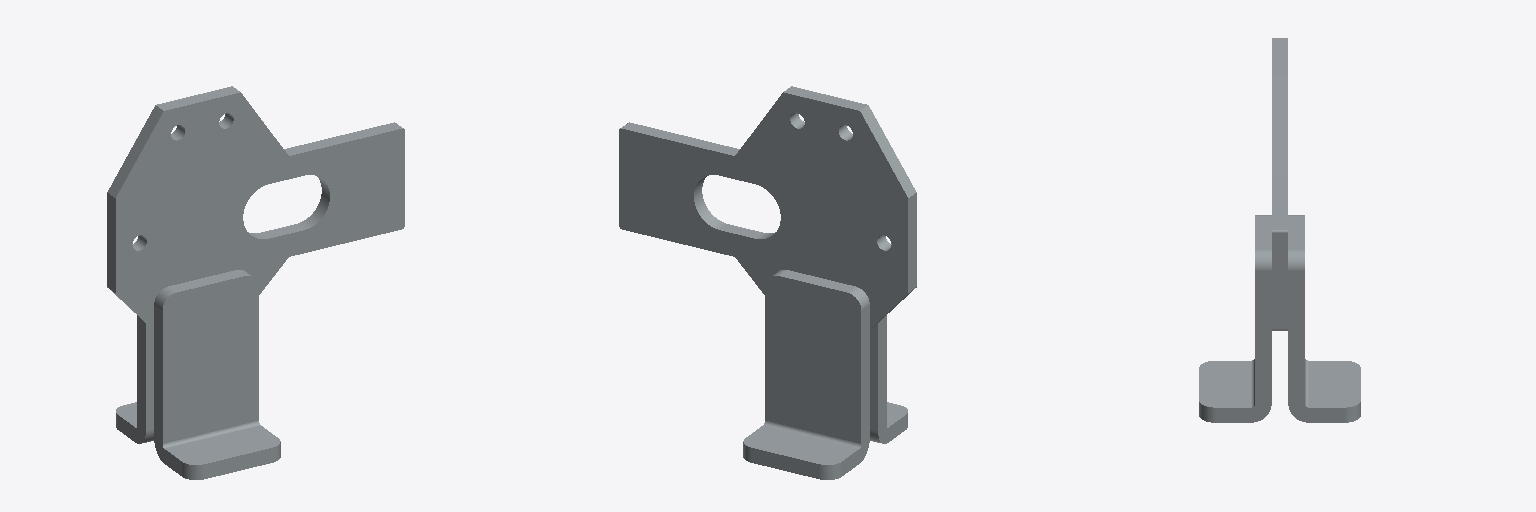
File: pinza_base.obj
3 views of the same model, side by side, from view 1: azimuth 30°, elevation 25°; view 2: azimuth 150°, elevation 25°; view 3: azimuth 270°, elevation 25° (orthographic).
Visible parts, largest first — view 1: Fillet6, Fillet1; view 2: Fillet6, Fillet1; view 3: Fillet1, Fillet6.
Boxes of the visible parts, <box> form: Fillet6: <box>107,86,404,329</box>; Fillet1: <box>116,270,280,479</box>; Fillet6: <box>619,86,916,329</box>; Fillet1: <box>743,270,907,479</box>; Fillet1: <box>1199,215,1360,422</box>; Fillet6: <box>1272,38,1287,330</box>.
Bounding box in the file's own units: 2.36 × 2.68 × 1.14.